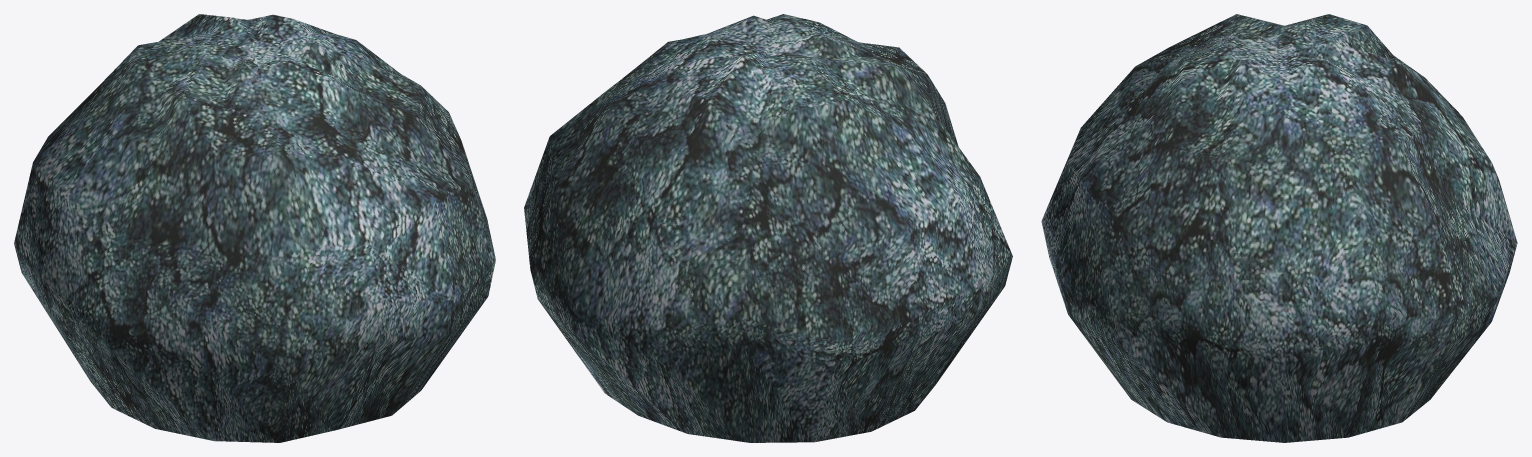
The model's file is rock_crystl_watrbush_med_l0.fbx.
3 renders of one model, left to right at view 1: azimuth 30°, elevation 25°; view 2: azimuth 150°, elevation 25°; view 3: azimuth 270°, elevation 25°, orthographic.
Visible parts, largest first — view 1: mesh_node; view 2: mesh_node; view 3: mesh_node.
Boxes of the visible parts, box(x1,y1,x2,y2) form: mesh_node: box(14, 14, 495, 442); mesh_node: box(524, 14, 1012, 442); mesh_node: box(1041, 14, 1517, 442).
Size of the model in its own units: 2.63 by 1.98 by 2.58.
